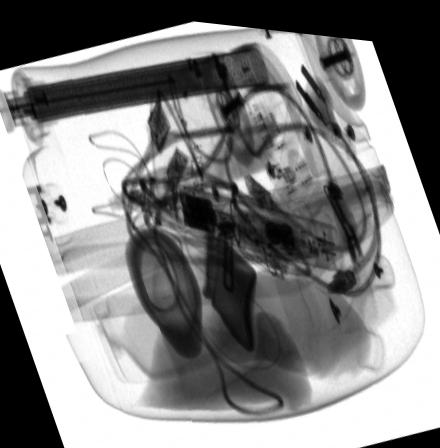Baton: (140, 176, 344, 266)
